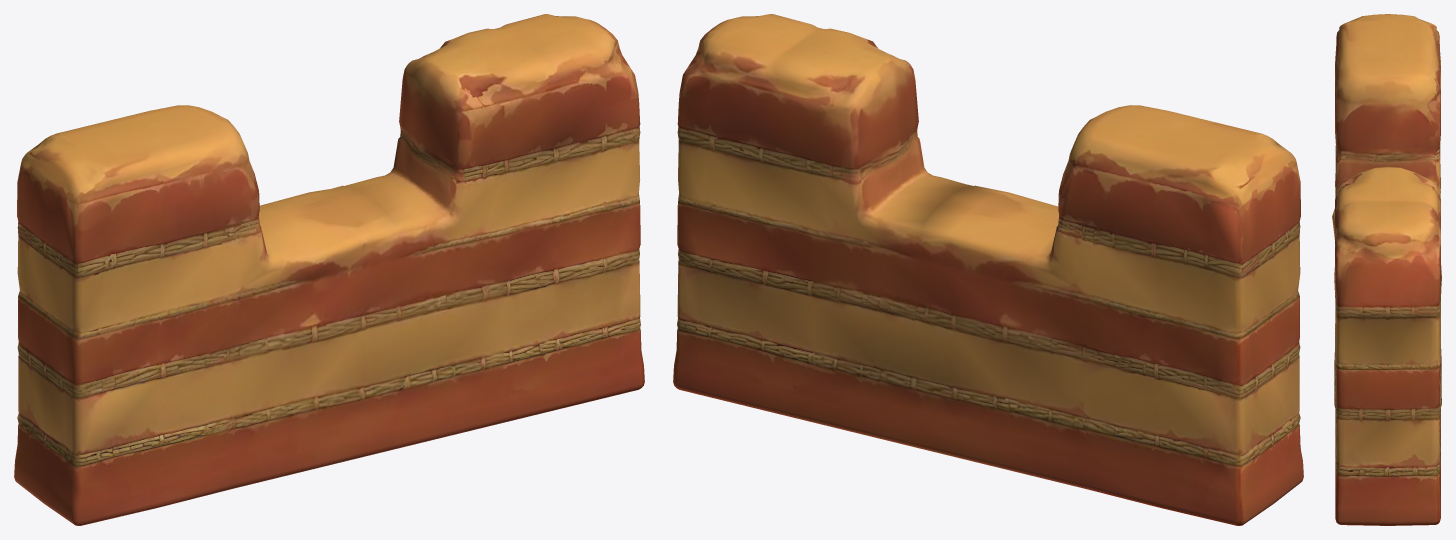
The model's file is SM_Tripo_DesertBeaconParapet.glb.
3 views of the same model, side by side, from view 1: azimuth 30°, elevation 25°; view 2: azimuth 150°, elevation 25°; view 3: azimuth 270°, elevation 25° (orthographic). The views are drawn at different scales.
Parts seen in each view (by area): view 1: SM_Tripo_DesertBeaconParapet_LOD0; view 2: SM_Tripo_DesertBeaconParapet_LOD0; view 3: SM_Tripo_DesertBeaconParapet_LOD0.
Part boxes in pixels (x1,y1,x2,y2): SM_Tripo_DesertBeaconParapet_LOD0: (14,14,644,525); SM_Tripo_DesertBeaconParapet_LOD0: (673,14,1303,525); SM_Tripo_DesertBeaconParapet_LOD0: (1332,14,1441,525).
Size of the model in its own units: 1.89 by 1.1 by 0.3771.
1 material, 1 textured.
